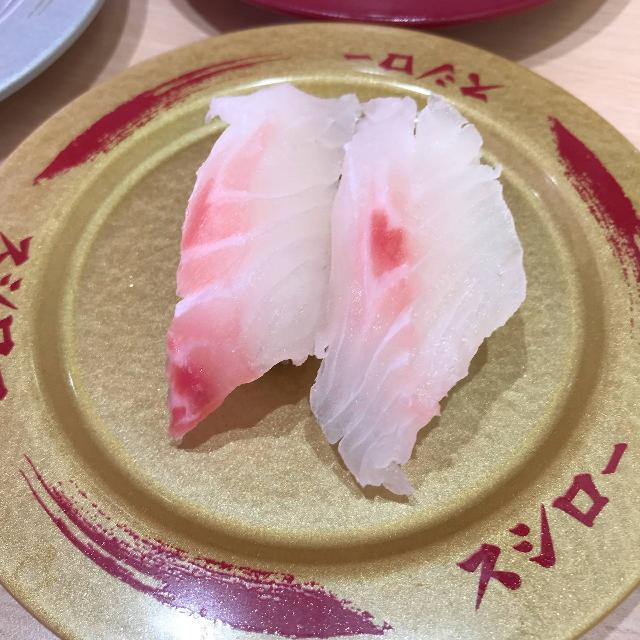jangold: (6, 53, 640, 622)
janred: (242, 0, 550, 41)
janwhite: (0, 0, 100, 84)
